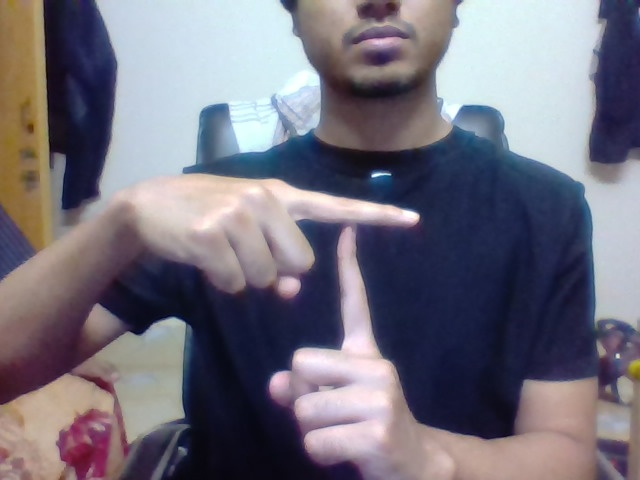T: (321, 183, 429, 334)
